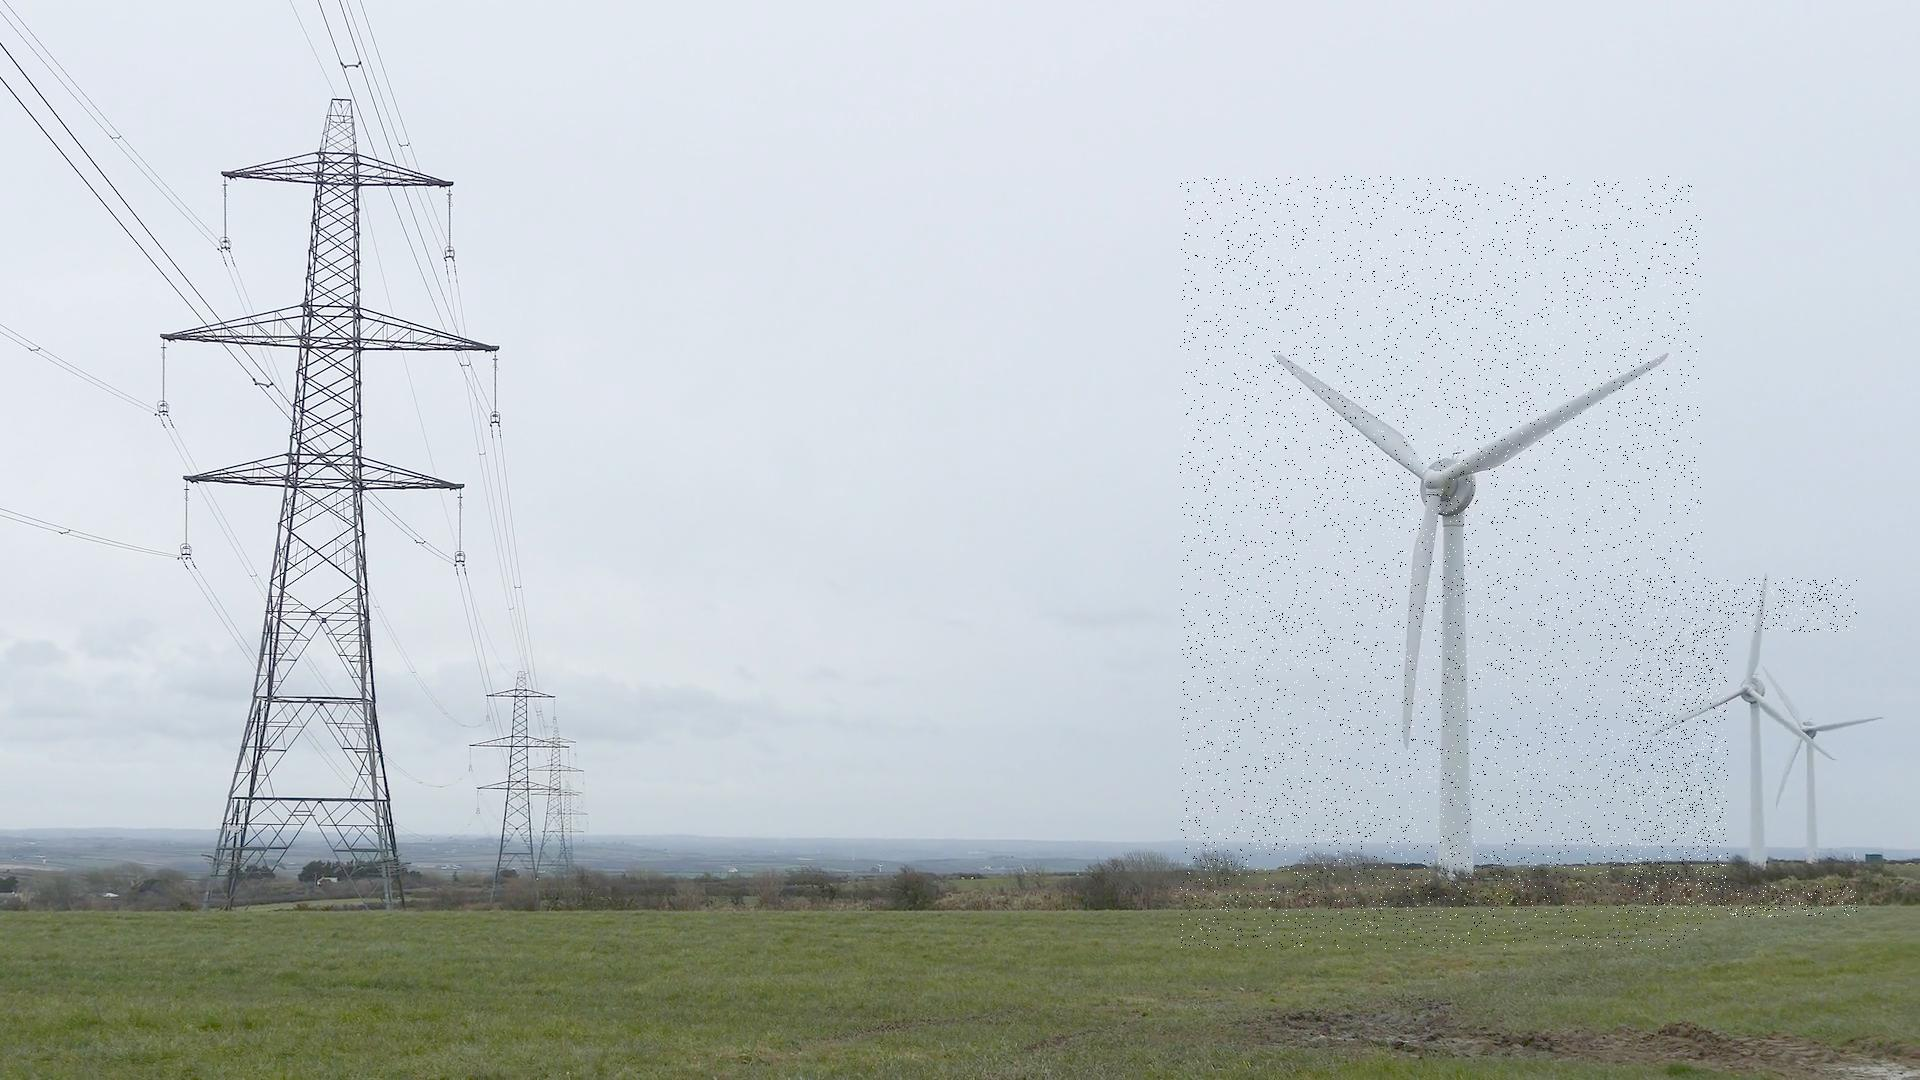cable tower: (146, 98, 508, 922), (468, 669, 568, 903), (524, 729, 584, 890), (549, 783, 589, 874)
turbine: (1180, 175, 1702, 949), (1627, 579, 1857, 918), (1727, 633, 1883, 887)
